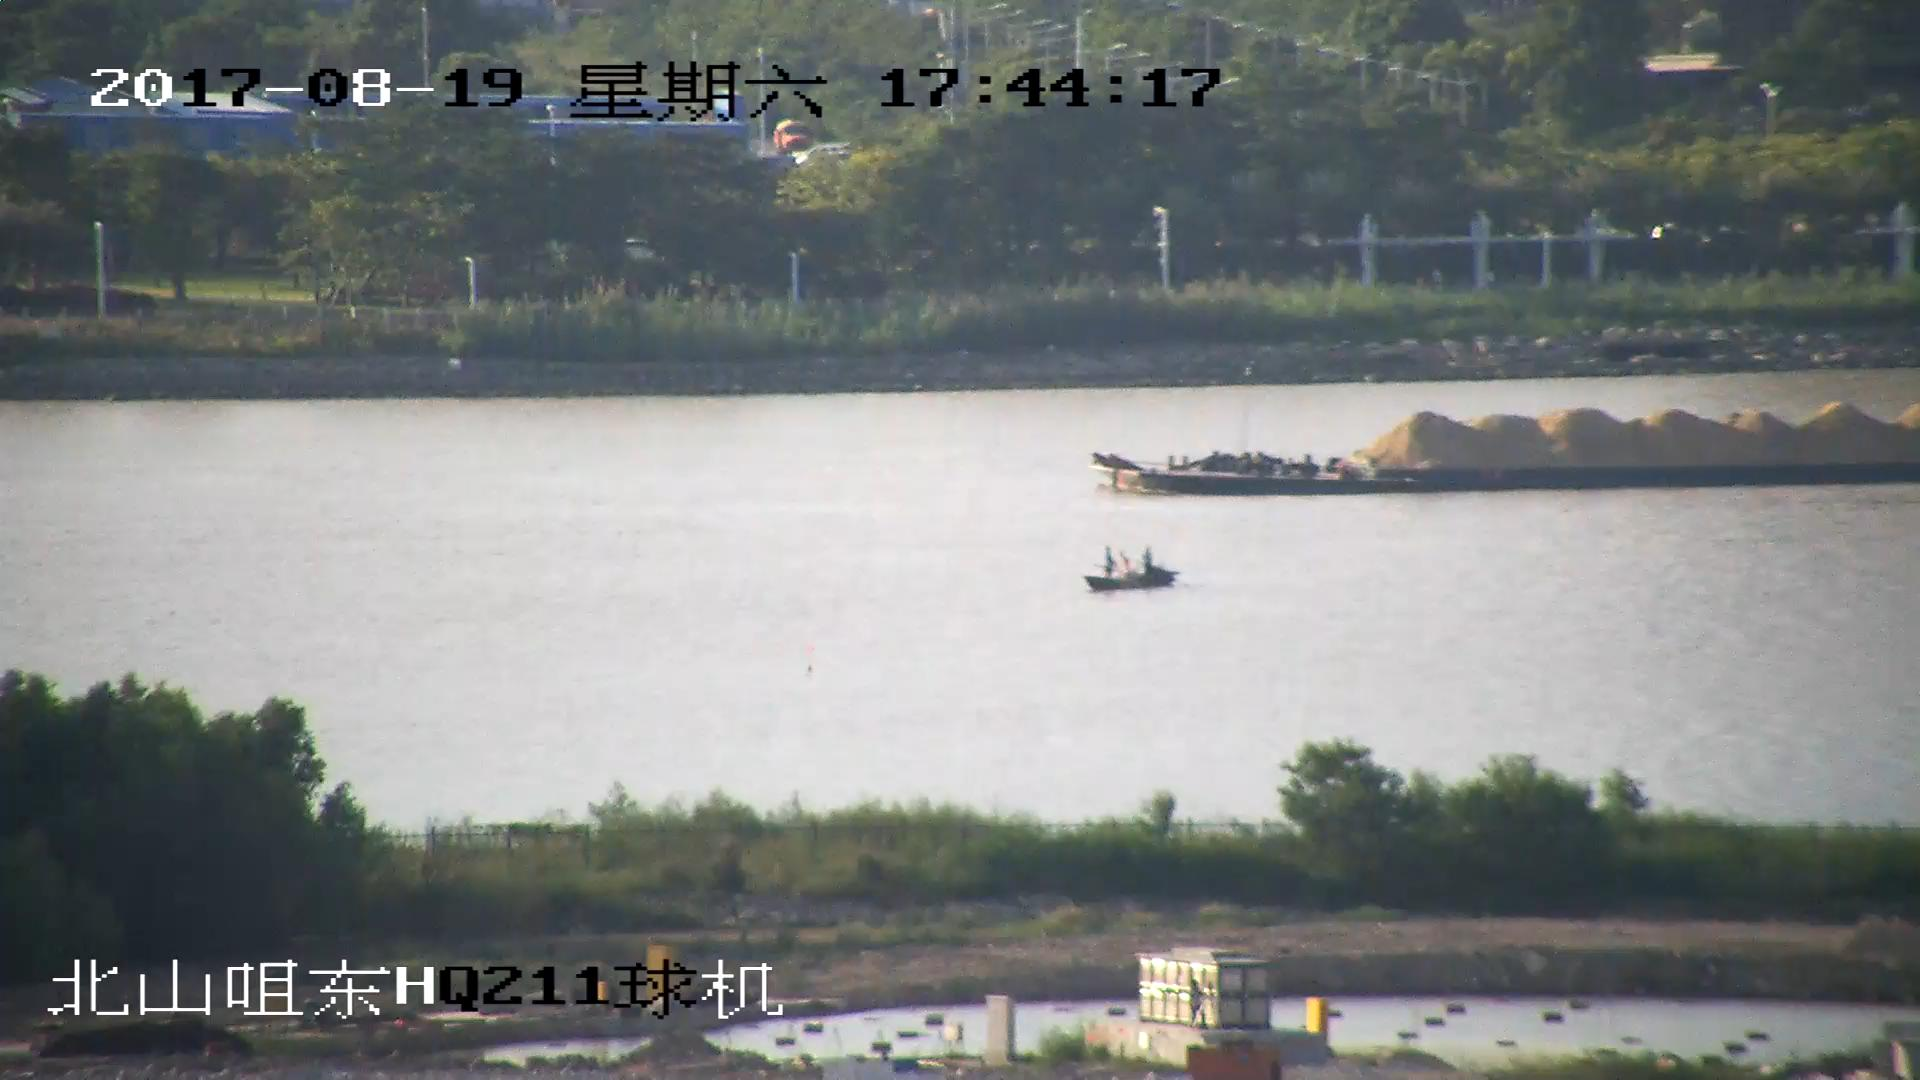fishing boat: (1082, 544, 1180, 594)
ore carrier: (1084, 402, 1920, 501)
